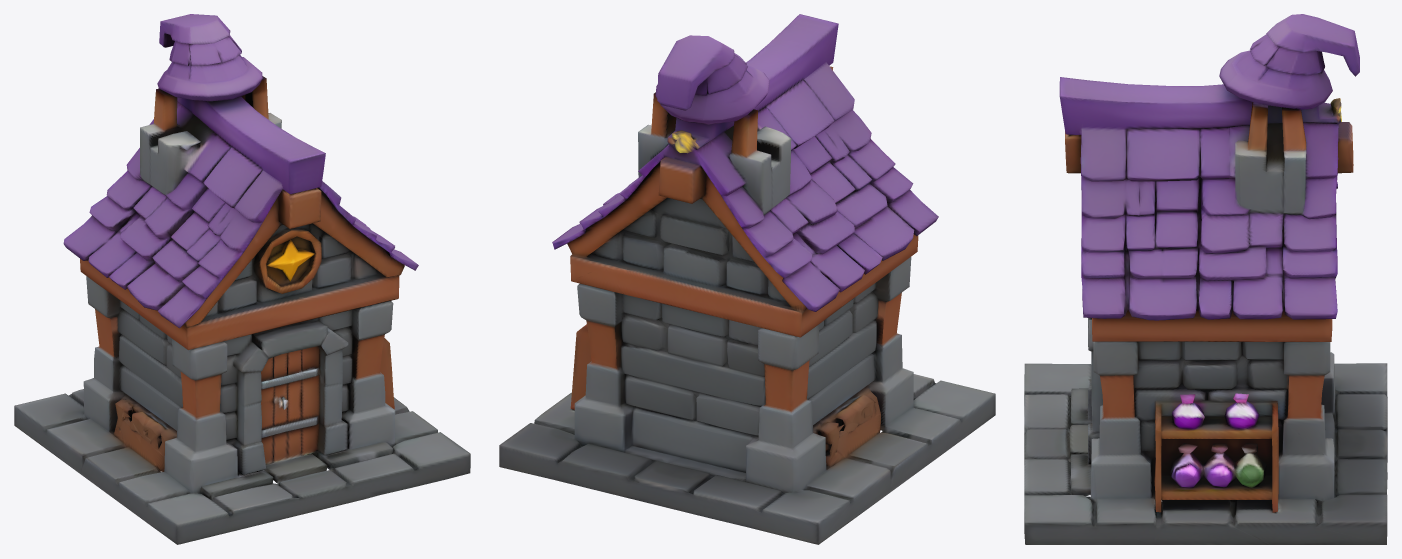
The model's file is base_basic_shaded.fbx.
3 views of the same model, side by side, from view 1: azimuth 30°, elevation 25°; view 2: azimuth 150°, elevation 25°; view 3: azimuth 270°, elevation 25° (orthographic). The views are drawn at different scales.
Visible parts, largest first — view 1: model; view 2: model; view 3: model.
Boxes of the visible parts, left/top/right/bottom form: model: left=14, top=14, right=470, bottom=544; model: left=499, top=14, right=995, bottom=544; model: left=1024, top=14, right=1387, bottom=544.
Bounding box in the file's own units: 140 × 182 × 135.
